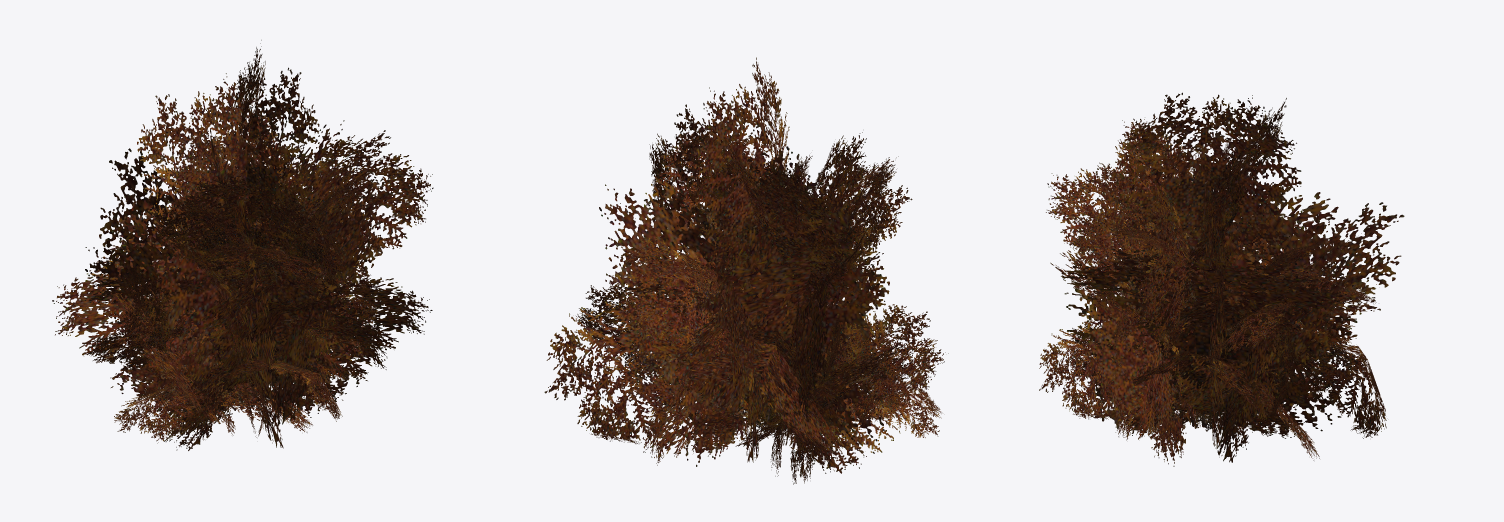
3 renders of one model, left to right at view 1: azimuth 30°, elevation 25°; view 2: azimuth 150°, elevation 25°; view 3: azimuth 270°, elevation 25°, orthographic. The views are drawn at different scales.
Visible parts, largest first — view 1: bush_02; view 2: bush_02; view 3: bush_02.
Boxes of the visible parts, <box> form: bush_02: <box>52,40,433,450</box>; bush_02: <box>544,57,948,484</box>; bush_02: <box>1039,92,1404,466</box>.
Bounding box in the file's own units: 1.14 × 1.31 × 1.32.
